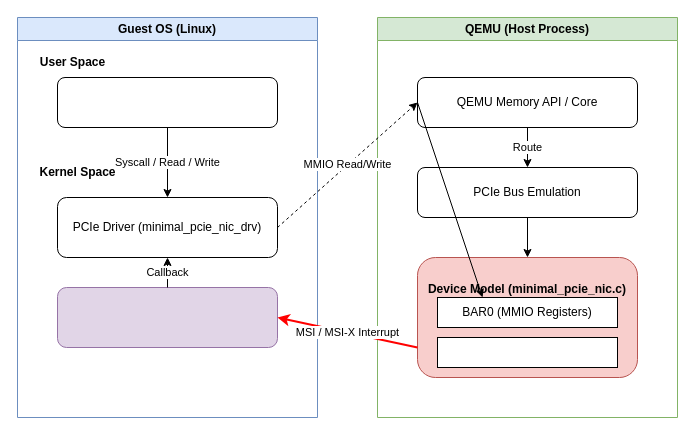
This 695x435 diagram has some shape labels left out. The shapes that lost their labels are listed below. From the top down, each one's centre as x and y in pixels, then its label:
(167,102): Application / devmem2
(167,317): Linux PCI Subsystem / IRQ Handler
(527,352): BAR1 (MSI-X Table)
